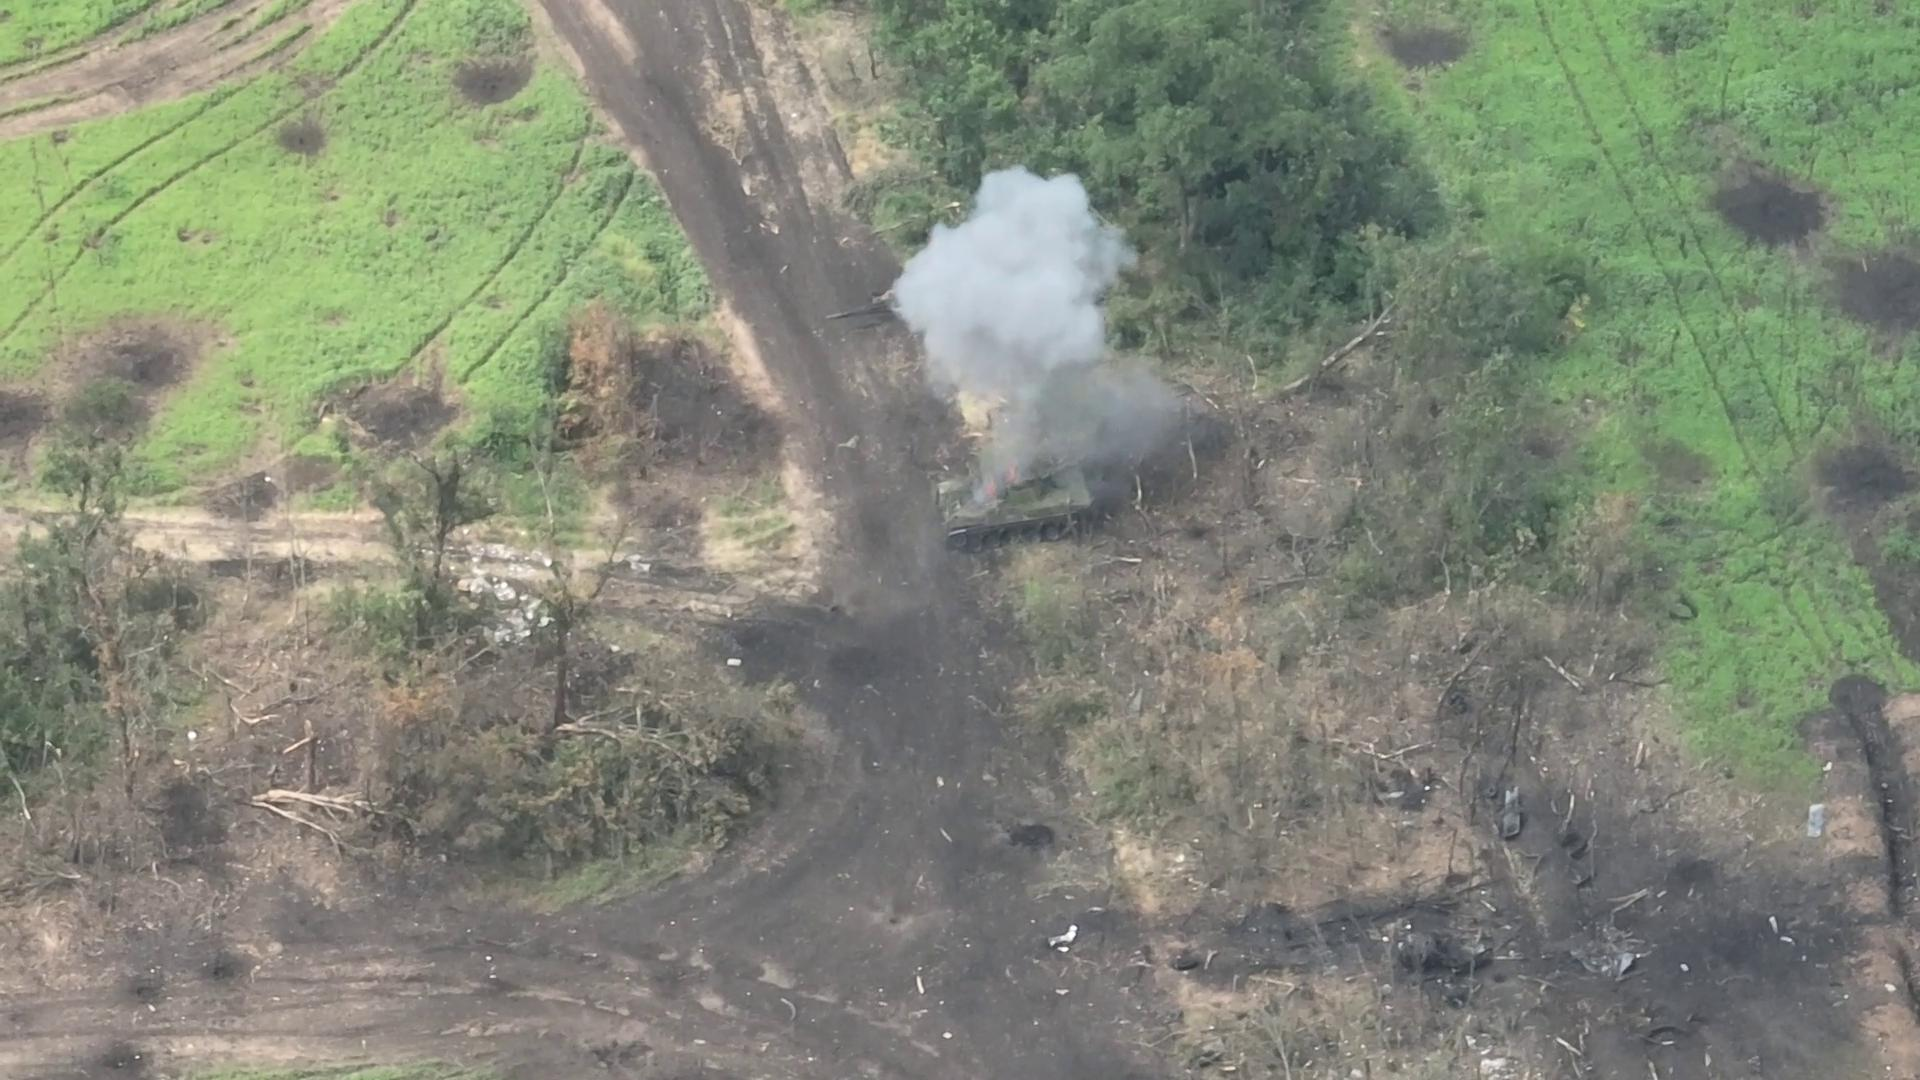tank: (929, 440, 1095, 556)
